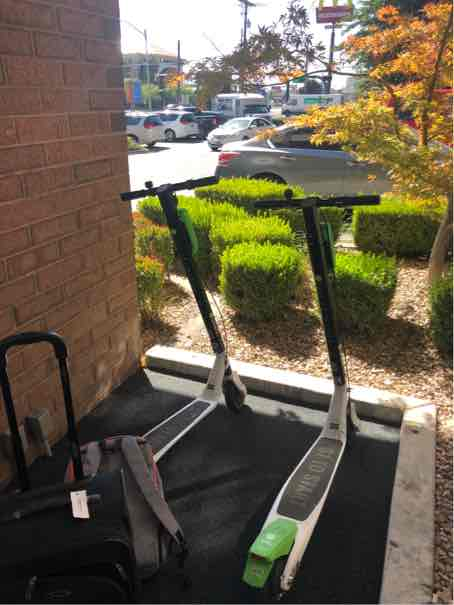scooter: (55, 158, 250, 507), (232, 187, 387, 591)
